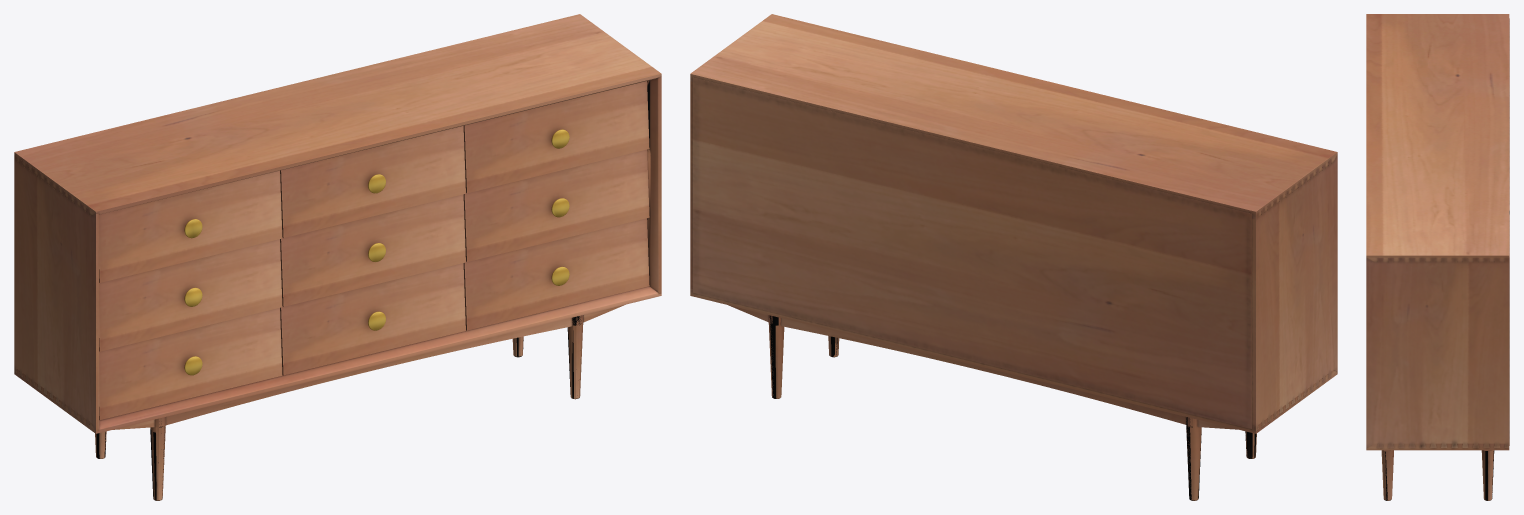
Rendered from raw_model.obj.
3 renders of one model, left to right at view 1: azimuth 30°, elevation 25°; view 2: azimuth 150°, elevation 25°; view 3: azimuth 270°, elevation 25°, orthographic. The views are drawn at different scales.
Visible parts, largest first — view 1: solid_002, solid_001; view 2: solid_002; view 3: solid_002.
Part boxes in pixels (x1=…): solid_002: x1=14, y1=14, x2=661, y2=500; solid_001: x1=184, y1=129, x2=569, y2=375; solid_002: x1=690, y1=14, x2=1337, y2=500; solid_002: x1=1366, y1=14, x2=1509, y2=500.
Bounding box in the file's own units: 1.6 × 0.8501 × 0.4003.
1 material, 1 textured.
